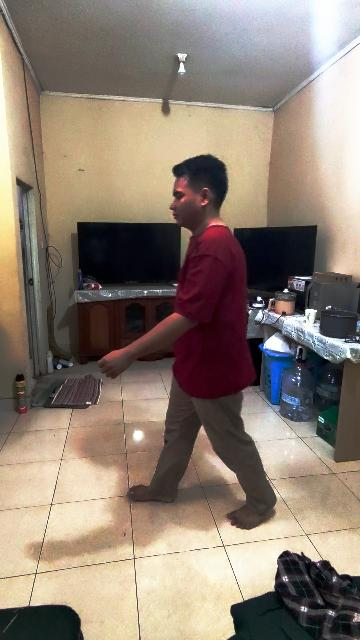berjalan: (100, 157, 278, 531)
